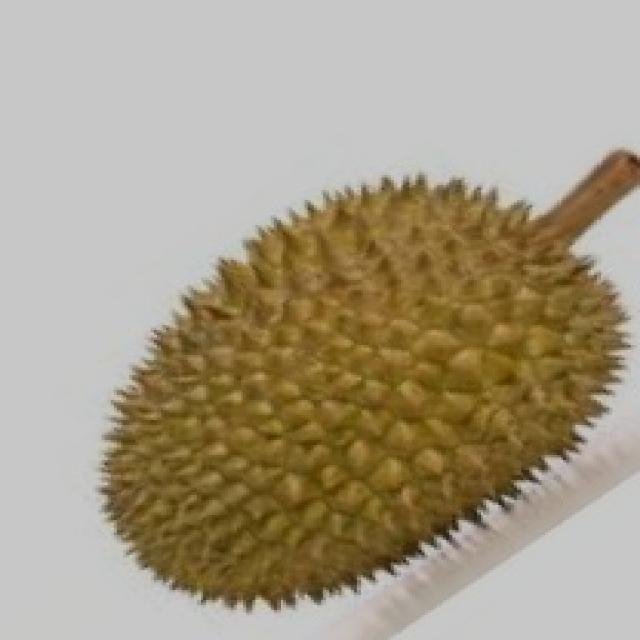fruit: (240, 163, 637, 635), (68, 265, 434, 640)
